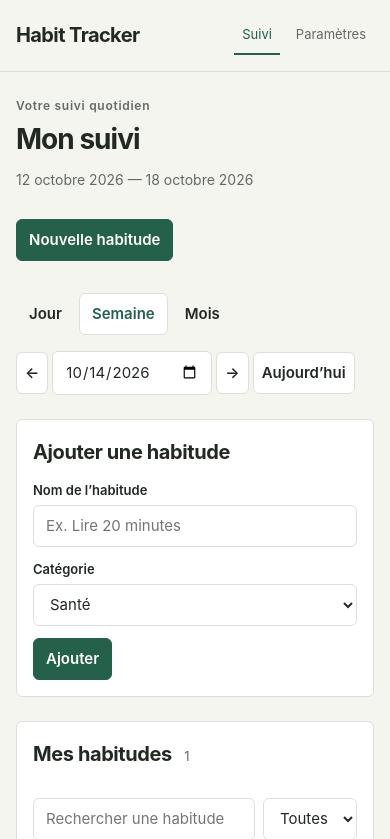
Scenario: requests notification permission only when enabling a reminder and handles denial
The width and height of the screenshot is (390, 839).
Click the link "Paramètres" at (331, 34), box [296,26,366,42]
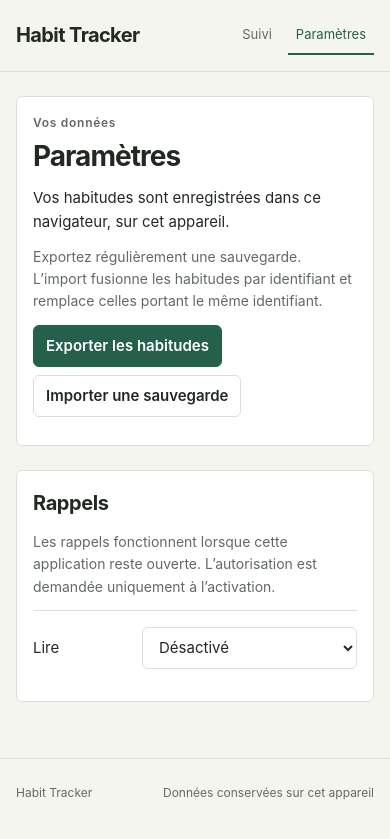
Select "Toutes les minutes" in the dropdown labelled "Lire" at (250, 648), box [142,627,357,669]
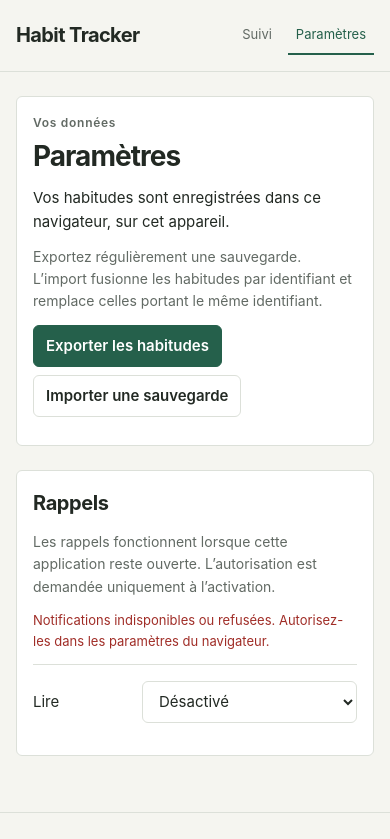
Now the message shows "Notifications indisponibles ou refusées", box [33,612,343,649]
